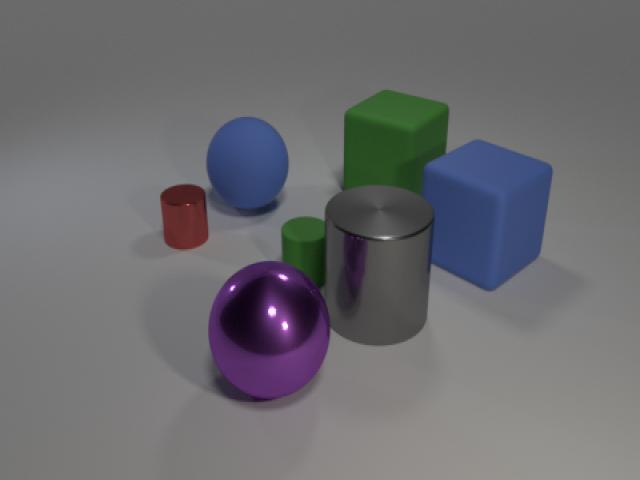cylinder: (320, 179, 440, 350), (155, 177, 213, 252), (278, 210, 329, 291)
round ball: (204, 250, 334, 404), (204, 109, 292, 215)
